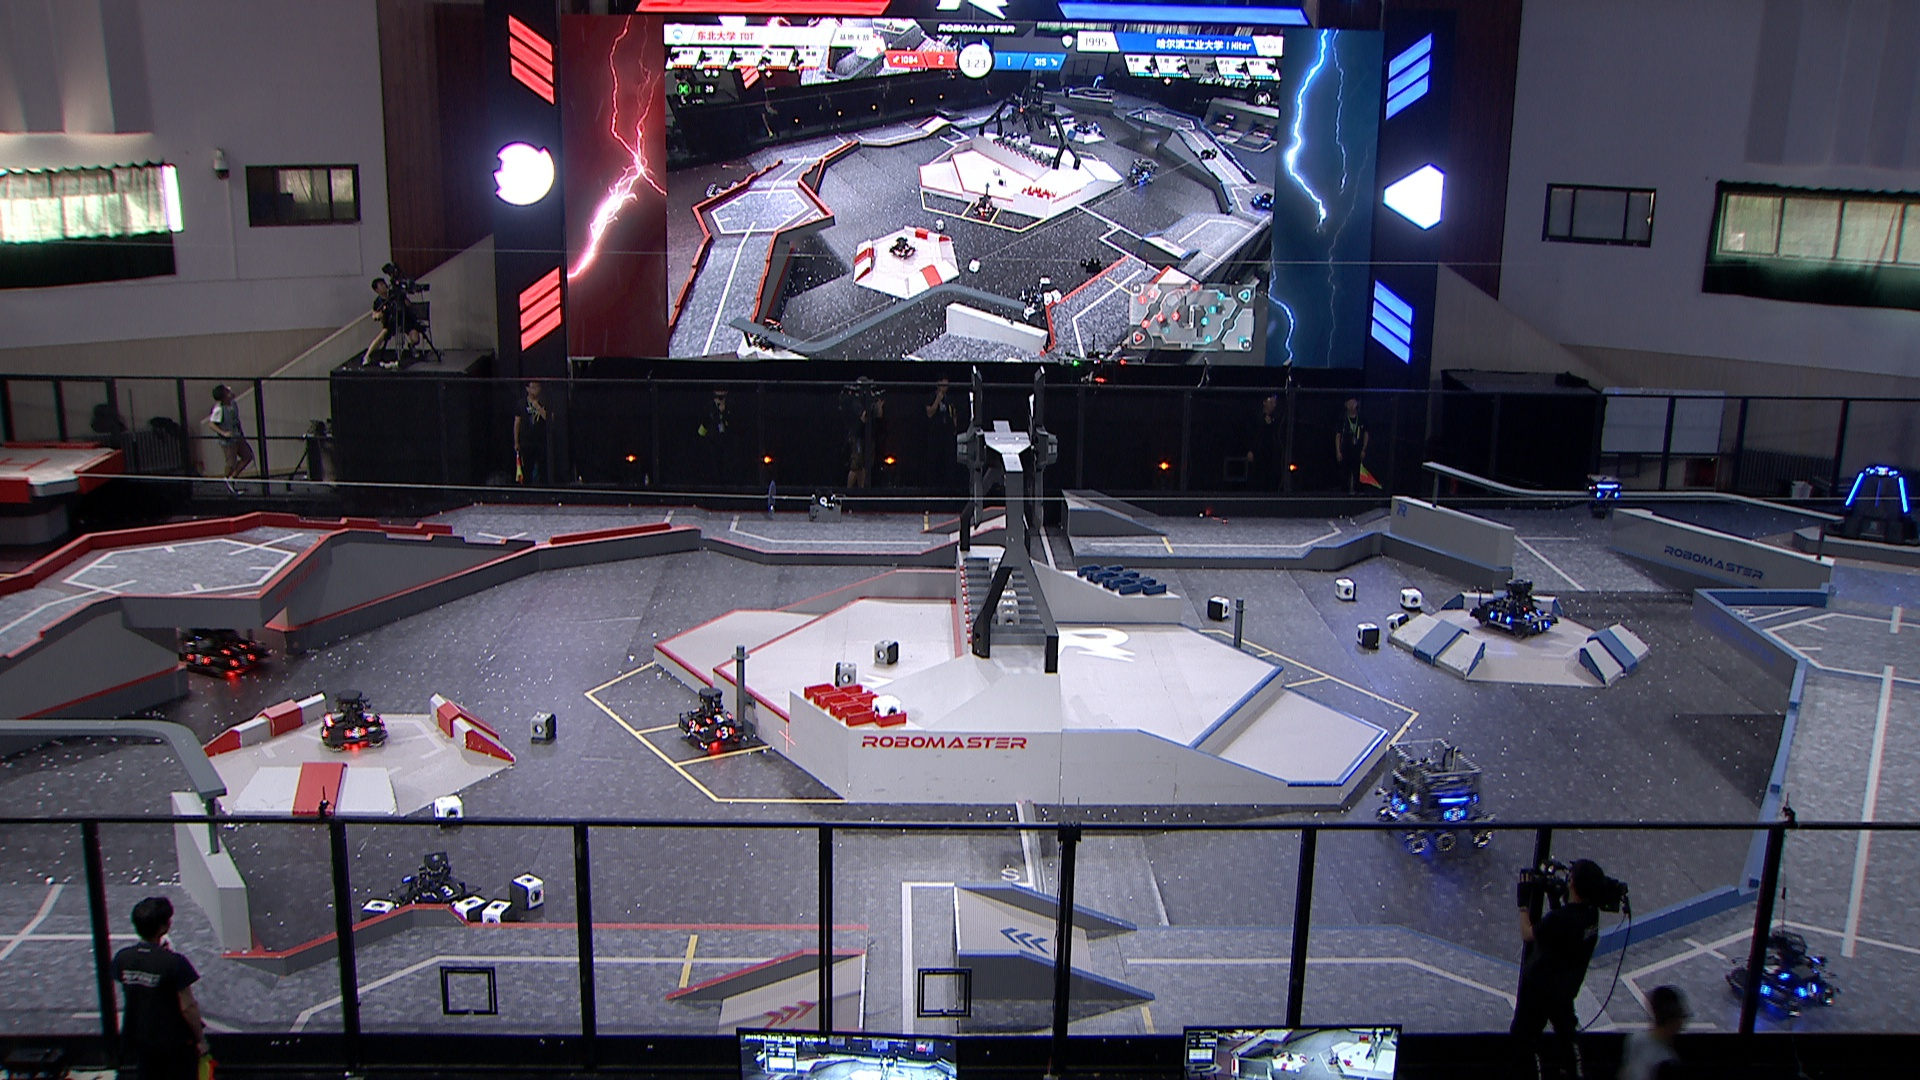armor: (430, 880, 462, 902), (1760, 957, 1789, 981), (1845, 471, 1865, 504), (229, 651, 255, 670), (185, 651, 210, 669), (222, 638, 245, 655), (1898, 476, 1908, 514), (1443, 803, 1465, 820), (713, 723, 736, 738), (345, 725, 367, 741), (707, 712, 731, 725), (1797, 982, 1817, 998), (684, 719, 703, 733), (1390, 794, 1404, 812), (1490, 611, 1510, 624), (1874, 477, 1883, 505), (1870, 465, 1894, 476), (1594, 488, 1617, 498), (1534, 618, 1551, 632), (1527, 608, 1543, 618), (363, 712, 377, 723)
base: (1828, 465, 1920, 543)
car: (1377, 737, 1498, 856), (1727, 928, 1836, 1017), (158, 600, 262, 684), (390, 847, 484, 920), (1470, 576, 1563, 641), (675, 684, 746, 750), (315, 692, 390, 750)
ignore: (744, 316, 787, 352), (1124, 158, 1158, 191), (703, 179, 736, 200), (972, 196, 997, 223), (1249, 187, 1273, 214), (889, 237, 915, 261), (1087, 73, 1109, 98), (1069, 115, 1092, 135), (1058, 84, 1072, 102)
watcher: (1580, 473, 1627, 520)
